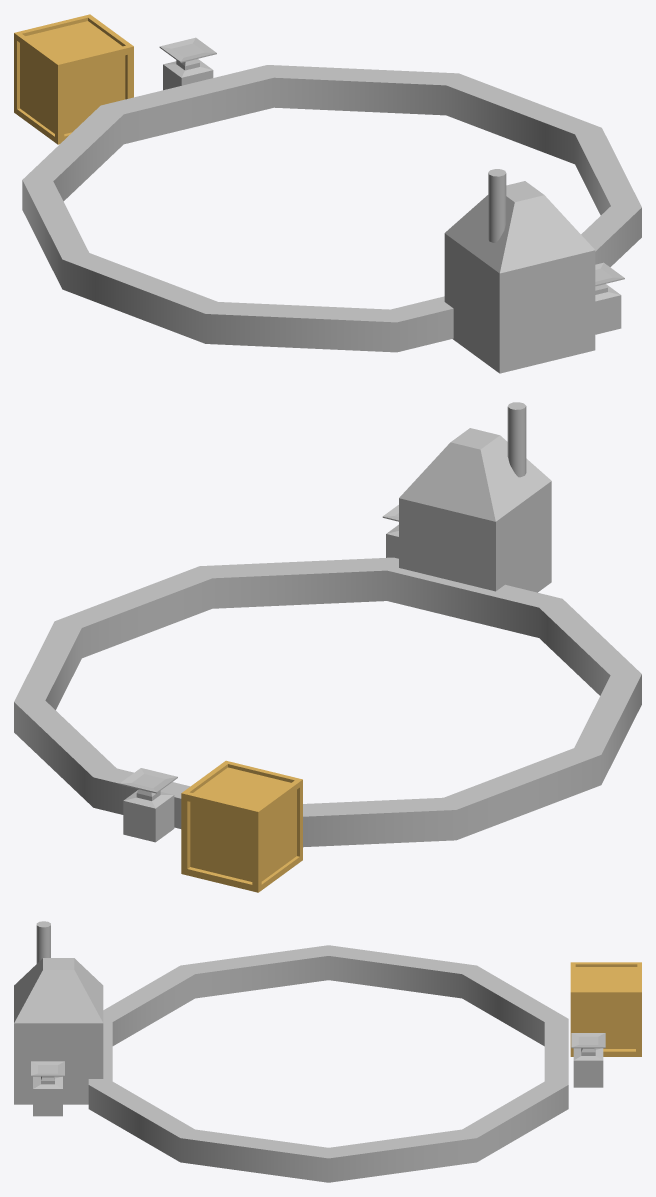
Rendered from BeastStable.obj.
3 renders of one model, top to bottom at view 1: azimuth 30°, elevation 25°; view 2: azimuth 150°, elevation 25°; view 3: azimuth 270°, elevation 25°, orthographic. The views are drawn at different scales.
Visible parts, largest first — view 1: BeastStable; view 2: BeastStable; view 3: BeastStable.
Part boxes in pixels (box(x1,y1,x2,y2)): BeastStable: box(14, 14, 641, 373); BeastStable: box(14, 402, 641, 892); BeastStable: box(14, 921, 641, 1182).
Size of the model in its own units: 16.92 by 5.5 by 21.05.
